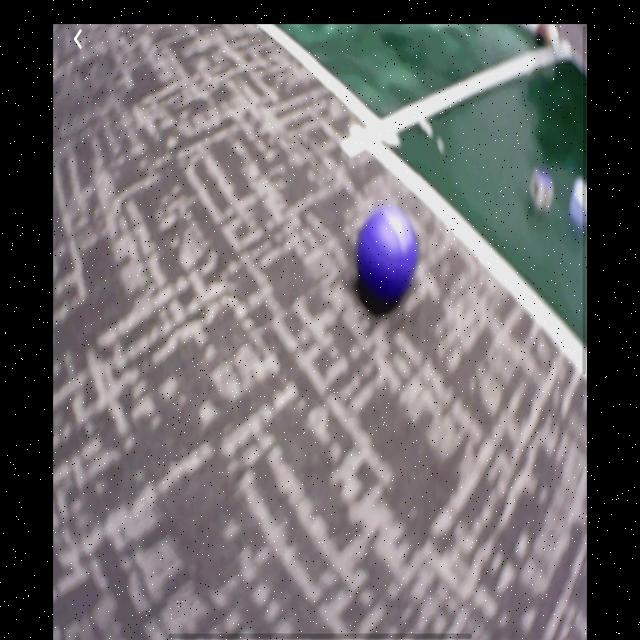ball: (355, 208, 420, 316)
